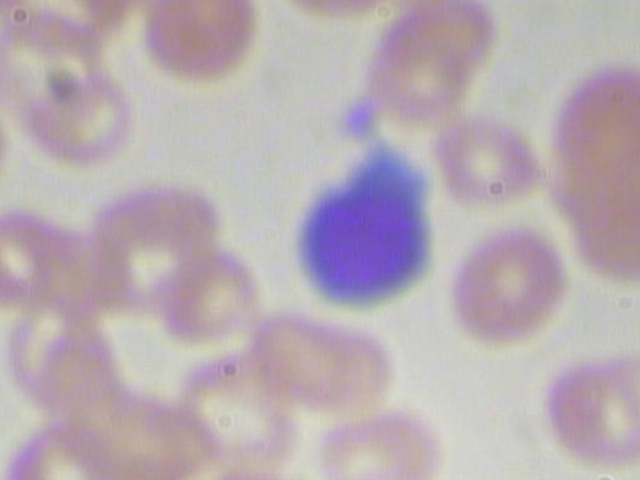Platelets: (341, 92, 384, 143)
WBC: (274, 139, 454, 329)
